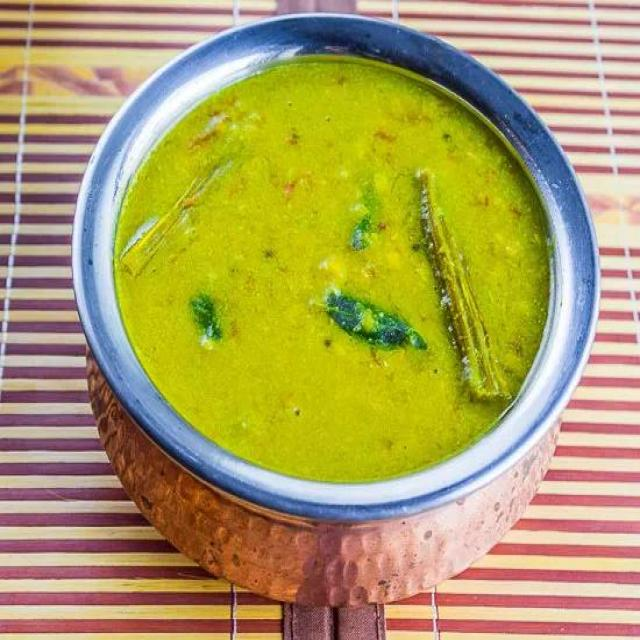dal: (118, 60, 553, 478)
